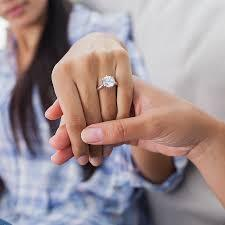Ring: (91, 71, 121, 94)
